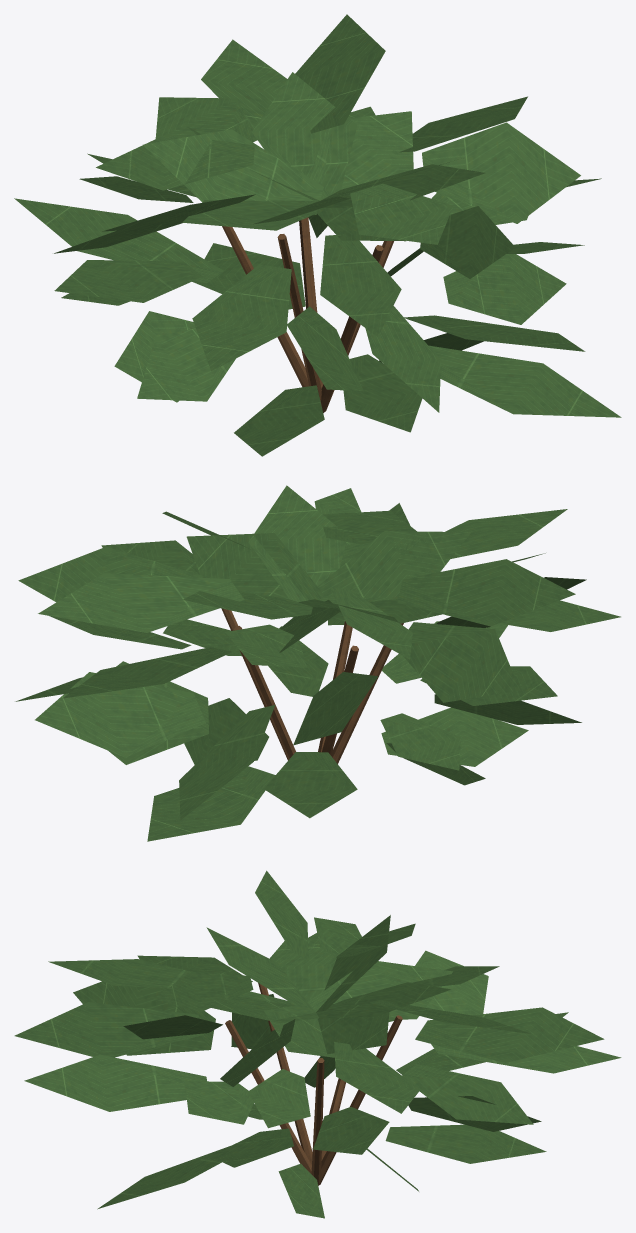
The model's file is en-009_broadleaf_bush_set__small.obj.
3 views of the same model, one above another, from view 1: azimuth 30°, elevation 25°; view 2: azimuth 150°, elevation 25°; view 3: azimuth 270°, elevation 25° (orthographic). The views are drawn at different scales.
Visible parts, largest first — view 1: en-009_broadleaf_bush_set__small; view 2: en-009_broadleaf_bush_set__small; view 3: en-009_broadleaf_bush_set__small.
Part boxes in pixels (x1,y1,x2,y2): en-009_broadleaf_bush_set__small: (14,14,621,456); en-009_broadleaf_bush_set__small: (15,485,620,841); en-009_broadleaf_bush_set__small: (14,870,621,1218).
Size of the model in its own units: 0.9303 by 0.4679 by 1.14.
Materials: 2 (2 with a texture image).
